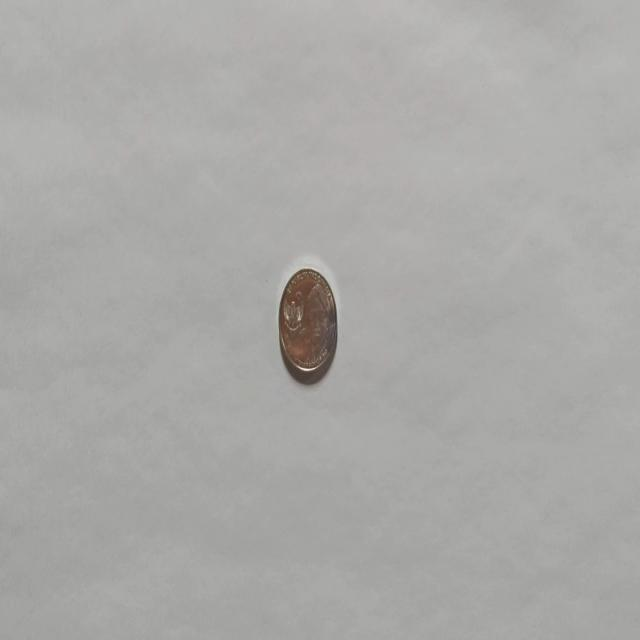dua ratus rupiah: (277, 264, 338, 382)
